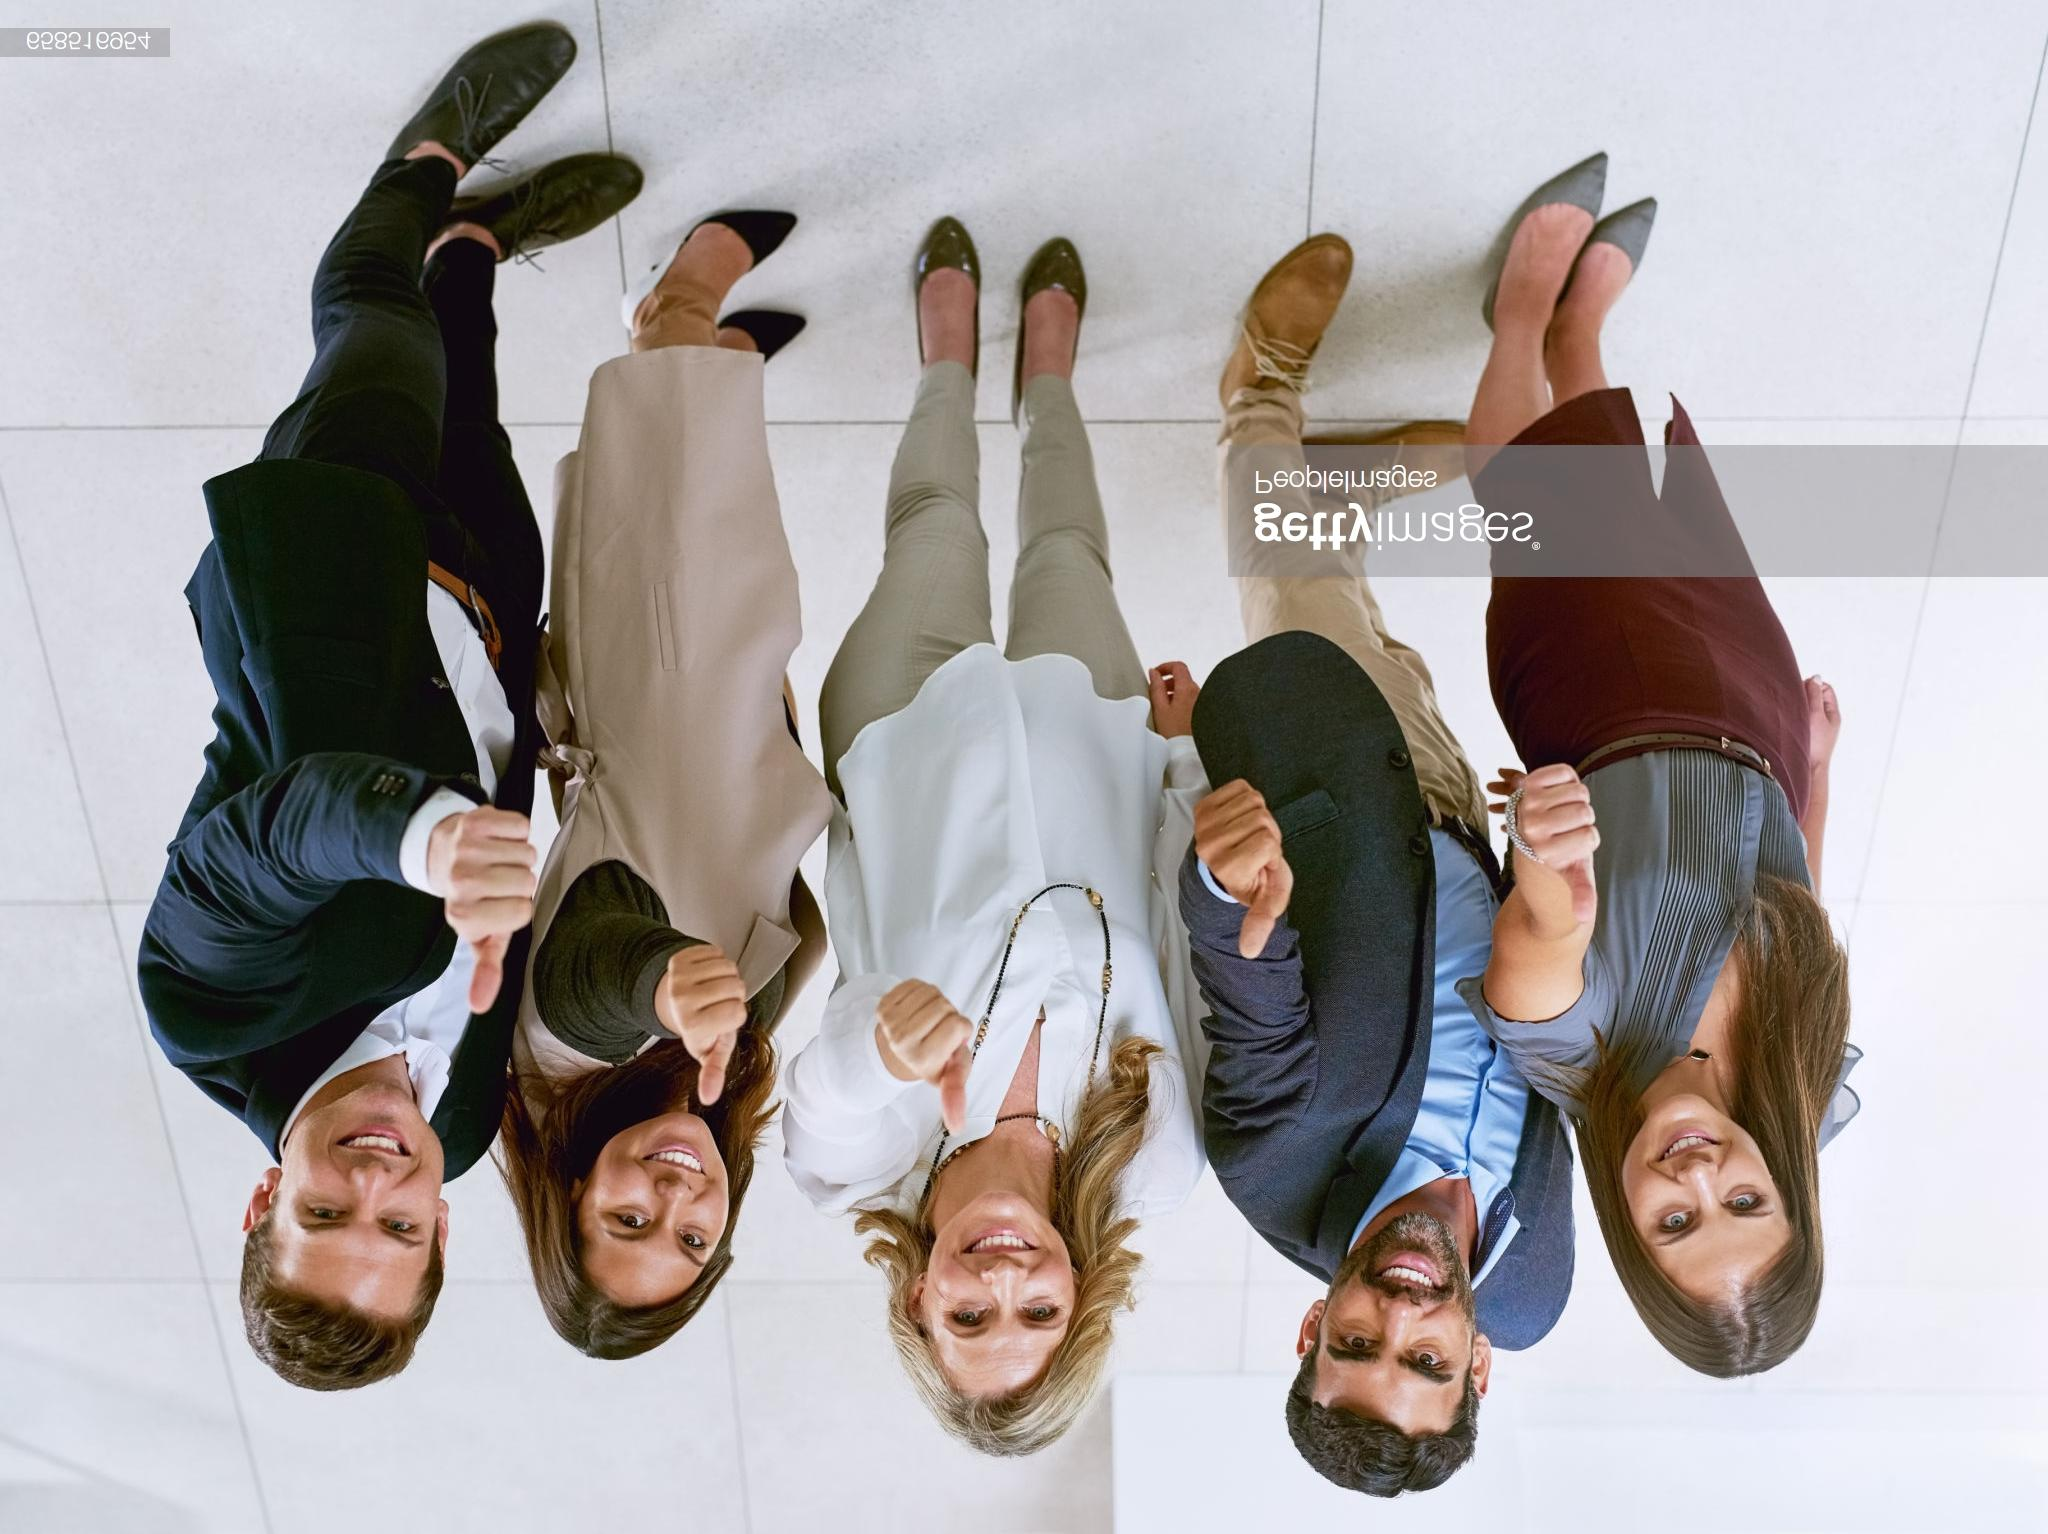thumbsdown: (445, 806, 538, 1014), (1191, 778, 1287, 960), (877, 980, 975, 1134), (1519, 762, 1602, 922), (667, 944, 748, 1105)
